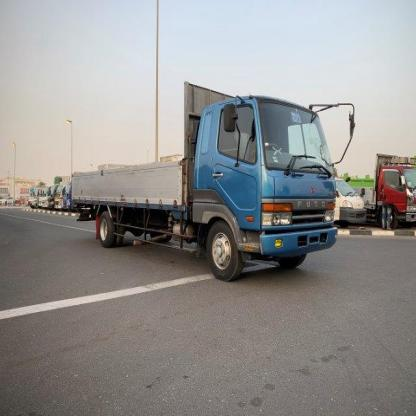truck: (69, 78, 356, 283)
